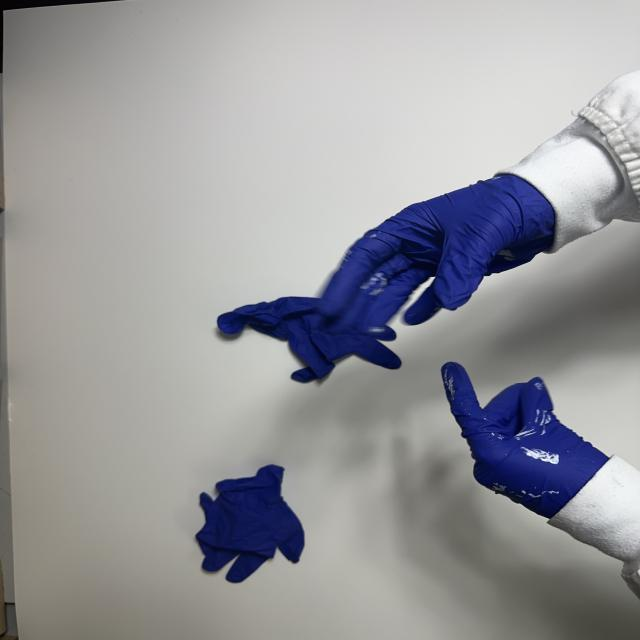gloves_contaminated: (318, 175, 554, 340), (442, 362, 608, 518)
